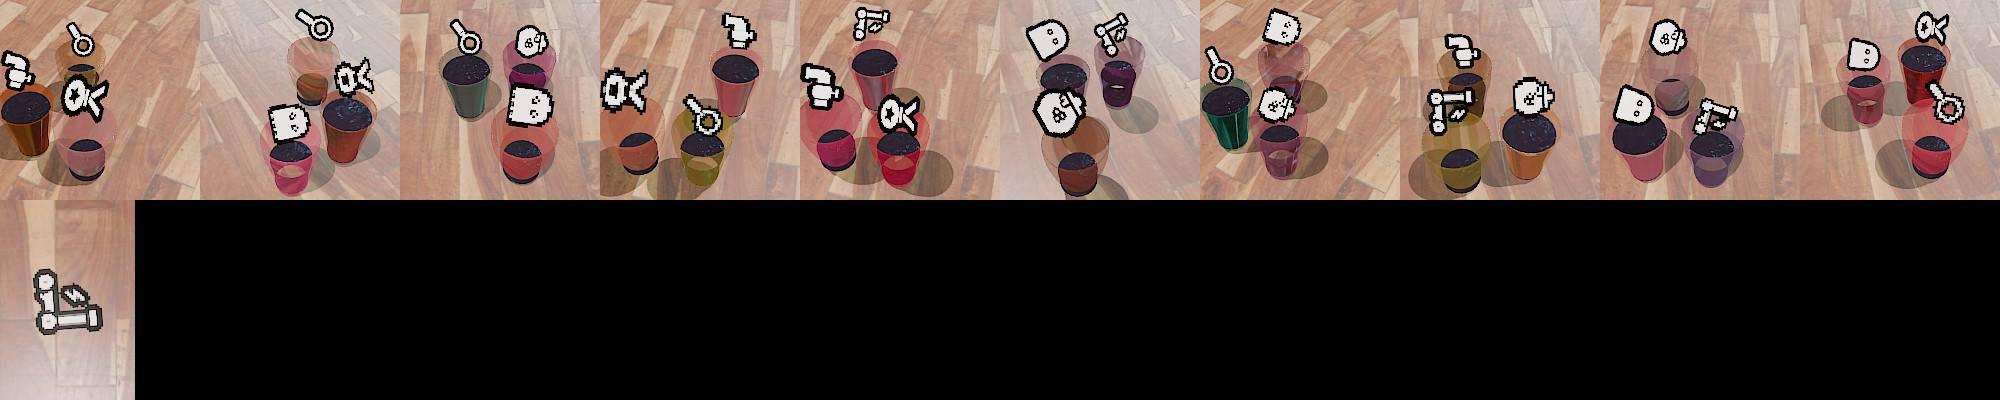icon: (32, 268, 106, 332), (1033, 88, 1085, 138), (599, 66, 651, 115), (61, 74, 108, 121), (1426, 87, 1474, 132), (800, 61, 844, 111), (506, 83, 555, 126), (1026, 18, 1070, 62), (681, 93, 724, 138), (267, 101, 312, 143), (878, 93, 922, 135), (1614, 83, 1657, 125), (1513, 76, 1556, 117), (1693, 97, 1739, 135), (1256, 87, 1298, 127), (1093, 11, 1130, 57), (332, 57, 374, 97), (1927, 80, 1966, 124), (1263, 8, 1302, 47), (1649, 18, 1686, 57), (1, 50, 37, 90), (1443, 32, 1481, 69), (721, 11, 758, 50), (295, 8, 334, 43), (853, 5, 892, 41), (1913, 10, 1950, 46), (513, 24, 550, 60), (449, 18, 482, 57), (1847, 37, 1880, 73), (1205, 46, 1235, 85), (66, 22, 94, 57)
